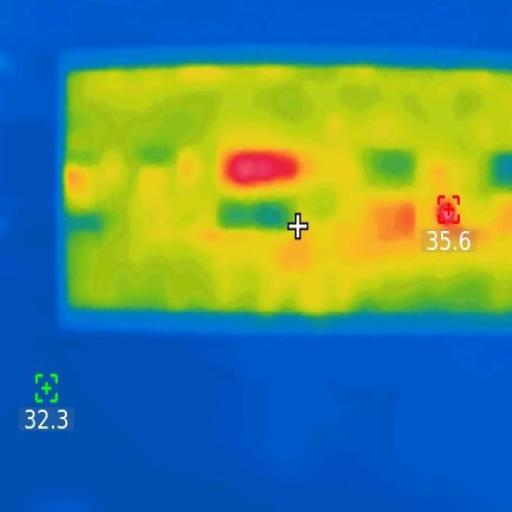hotspot: (226, 148, 303, 190), (433, 201, 459, 226)
